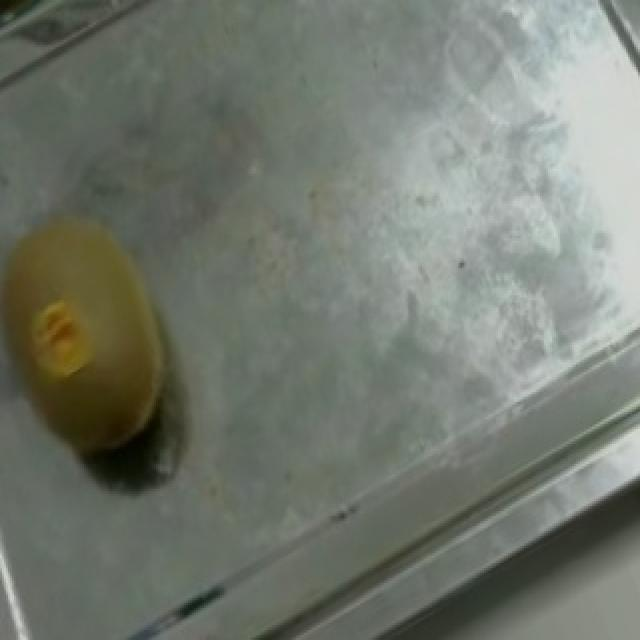Fruit: (0, 176, 216, 494)
